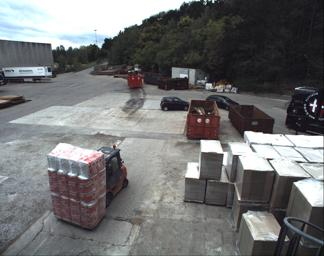rockwool_batts: (46, 143, 106, 228)
